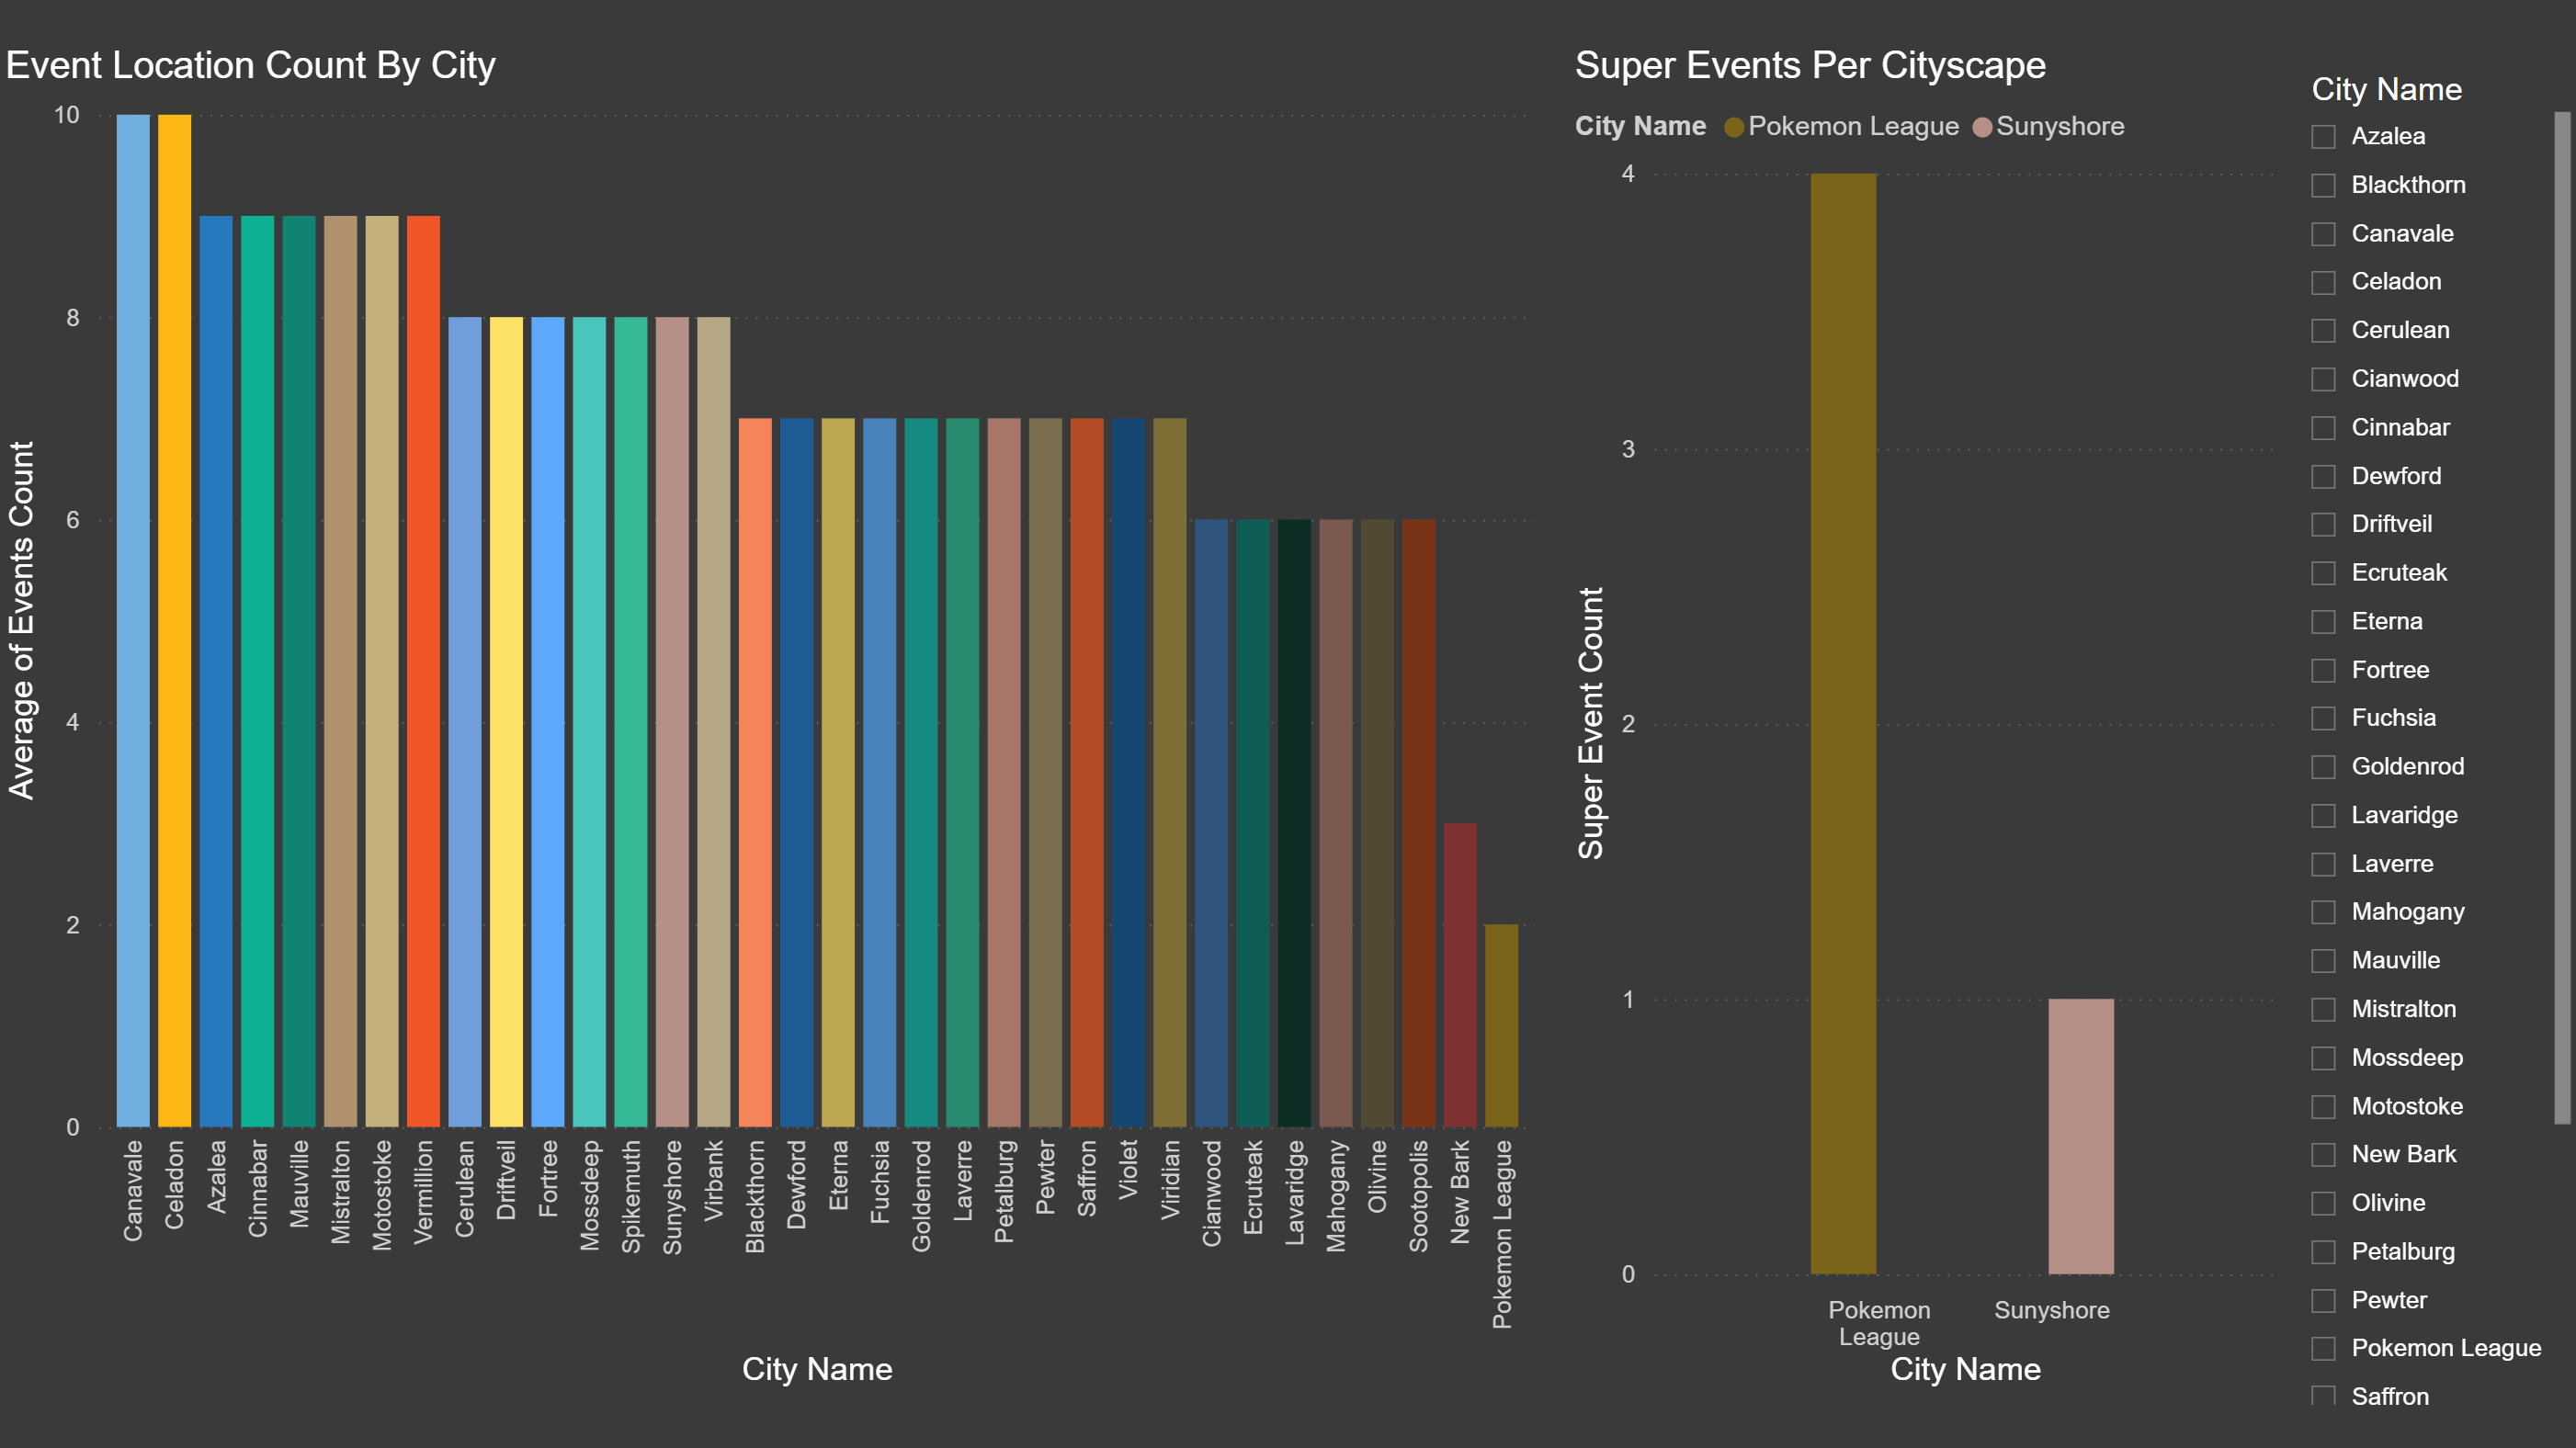

This screenshot's page, from the dashboard's own definition file:
{"tool":"powerbi","page":{"name":"City Events Count","canvas":[1280,720],"ordinal":3},"visuals":[{"type":"columnChart","title":"Event Location Count By City","fields":{"Category":["Cities.City Name"],"Y":["Avg(Cities.Events Count)"],"Series":["Cities.City Name"]},"box":[0,24.5,766.9,669.9],"z":0},{"type":"slicer","fields":{"Values":["Cities.City Name"]},"box":[1133.7,33.1,146,669.9],"z":1000},{"type":"clusteredColumnChart","title":"Super Events Per Cityscape","fields":{"Category":["Cities.City Name"],"Series":["Cities.City Name"],"Y":["Measures Table.Super Event Count"]},"box":[777,25,357,670],"z":2000}]}

Visuals, with their boxes in screenshot pixels (x1, y1, x2, y2), scaled from the page's 1280x720 canvas onto the 2576x1448 screenshot:
"Event Location Count By City" columnChart: [x1=0, y1=50, x2=1543, y2=1397]
slicer - Cities.City Name: [x1=2282, y1=66, x2=2575, y2=1414]
"Super Events Per Cityscape" clusteredColumnChart: [x1=1564, y1=51, x2=2282, y2=1397]
